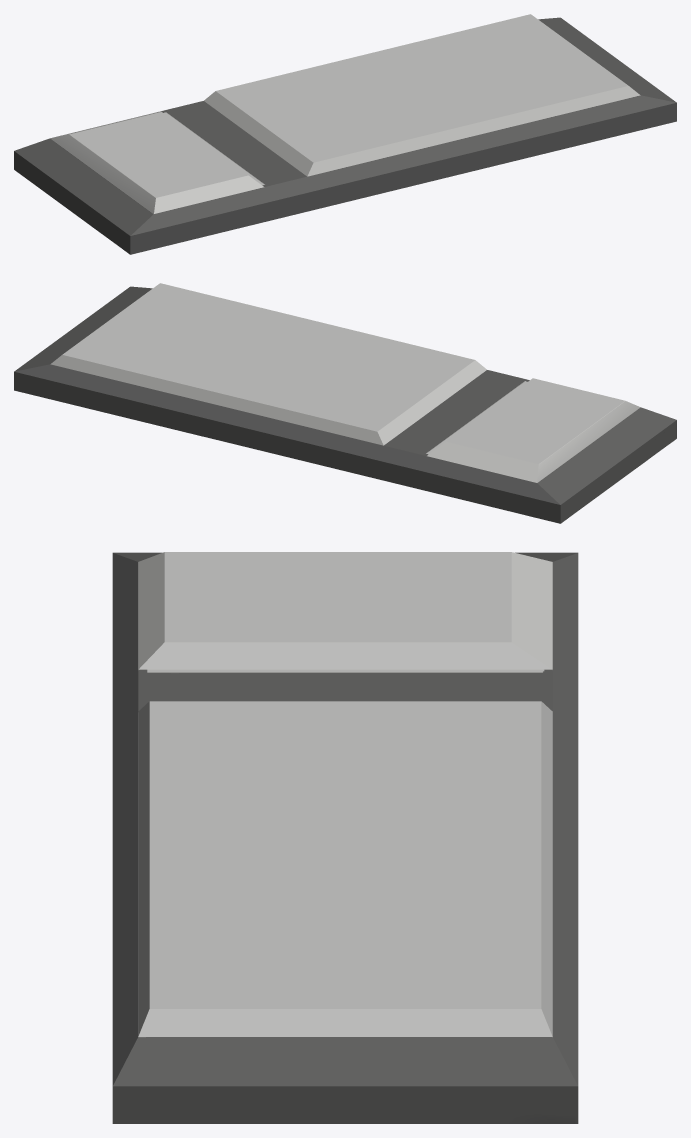
File: keyboard.fbx
The picture shows the model from 3 angles, top to bottom: view 1: azimuth 30°, elevation 25°; view 2: azimuth 150°, elevation 25°; view 3: azimuth 270°, elevation 25°; orthographic projection. The views are drawn at different scales.
Visible parts, largest first — view 1: Cube.001; view 2: Cube.001; view 3: Cube.001.
Part boxes in pixels (x1,y1,x2,y2): Cube.001: (14, 14, 676, 254); Cube.001: (14, 283, 676, 523); Cube.001: (112, 552, 578, 1123).
Bounding box in the file's own units: 0.4205 × 0.0283 × 0.155.
